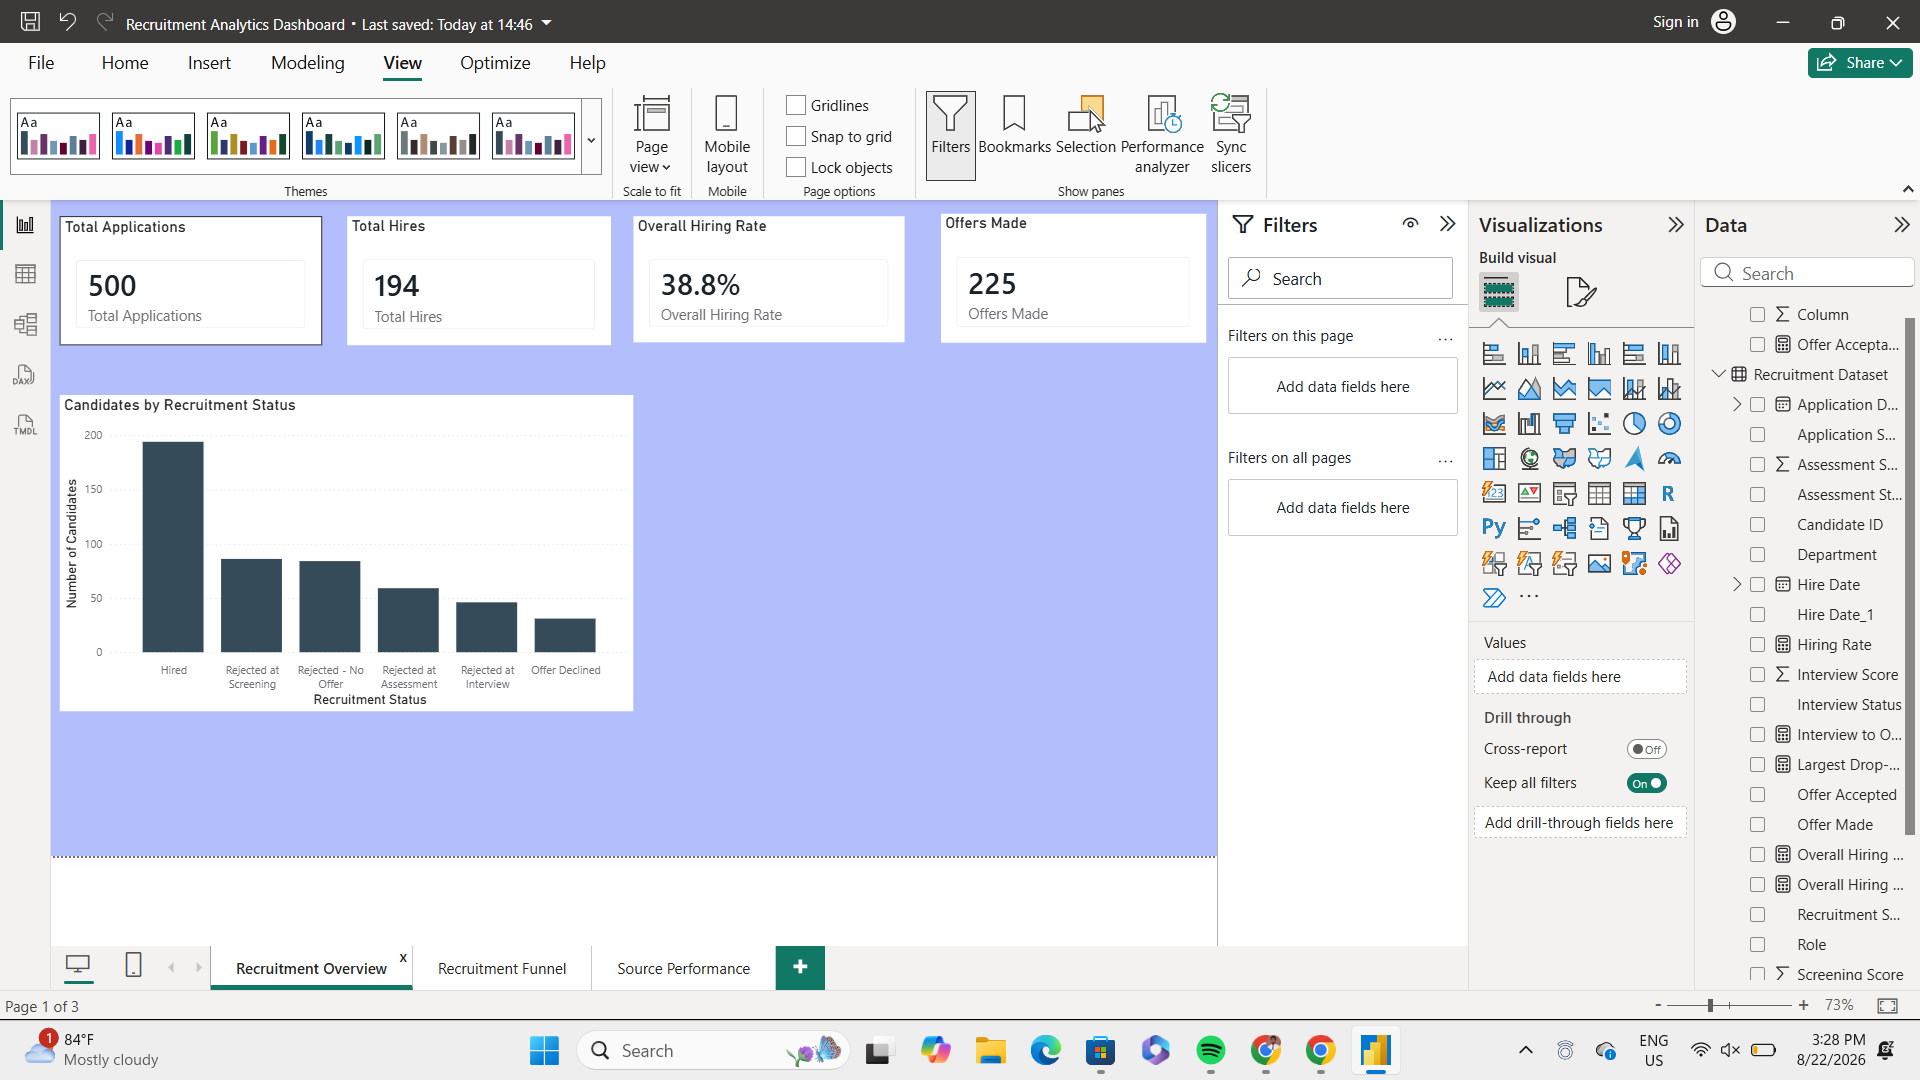

The page's visual inventory and layout, read from the dashboard file:
{"tool":"powerbi","page":{"name":"Recruitment Overview","canvas":[1280,720],"ordinal":0},"visuals":[{"type":"cardVisual","title":"Total Applications ","fields":{"Data":["CountNonNull(Recruitment Dataset.Candidate ID)"]},"box":[9.6,17.8,288.2,141.3],"z":0},{"type":"cardVisual","title":"Total Hires","fields":{"Data":["CountNonNull(Recruitment Dataset.Candidate ID)"]},"box":[325.2,17.8,289.5,141.3],"z":1000},{"type":"cardVisual","title":"Overall Hiring Rate","fields":{"Data":["Recruitment Dataset.Overall Hiring Rate Corrected"]},"box":[639.5,17.8,297.8,138.6],"z":2000},{"type":"cardVisual","title":"Offers Made","fields":{"Data":["CountNonNull(Recruitment Dataset.Candidate ID)"]},"box":[977,15.1,290.9,141.3],"z":3000},{"type":"columnChart","title":"Candidates by Recruitment Status","fields":{"Category":["Recruitment Dataset.Recruitment Status"],"Y":["CountNonNull(Recruitment Dataset.Candidate ID)"]},"box":[9.6,214.1,629.8,347.2],"z":4000}]}

Visuals, with their boxes on the page's 1280x720 design canvas (x1, y1, x2, y2). These are canvas units, not pixel positions in the 1920x1080 screenshot, which may show the page scaled, cropped or inside an application window:
"Total Applications " cardVisual: bbox=[10, 18, 298, 159]
"Total Hires" cardVisual: bbox=[325, 18, 615, 159]
"Overall Hiring Rate" cardVisual: bbox=[640, 18, 937, 156]
"Offers Made" cardVisual: bbox=[977, 15, 1268, 156]
"Candidates by Recruitment Status" columnChart: bbox=[10, 214, 639, 561]
